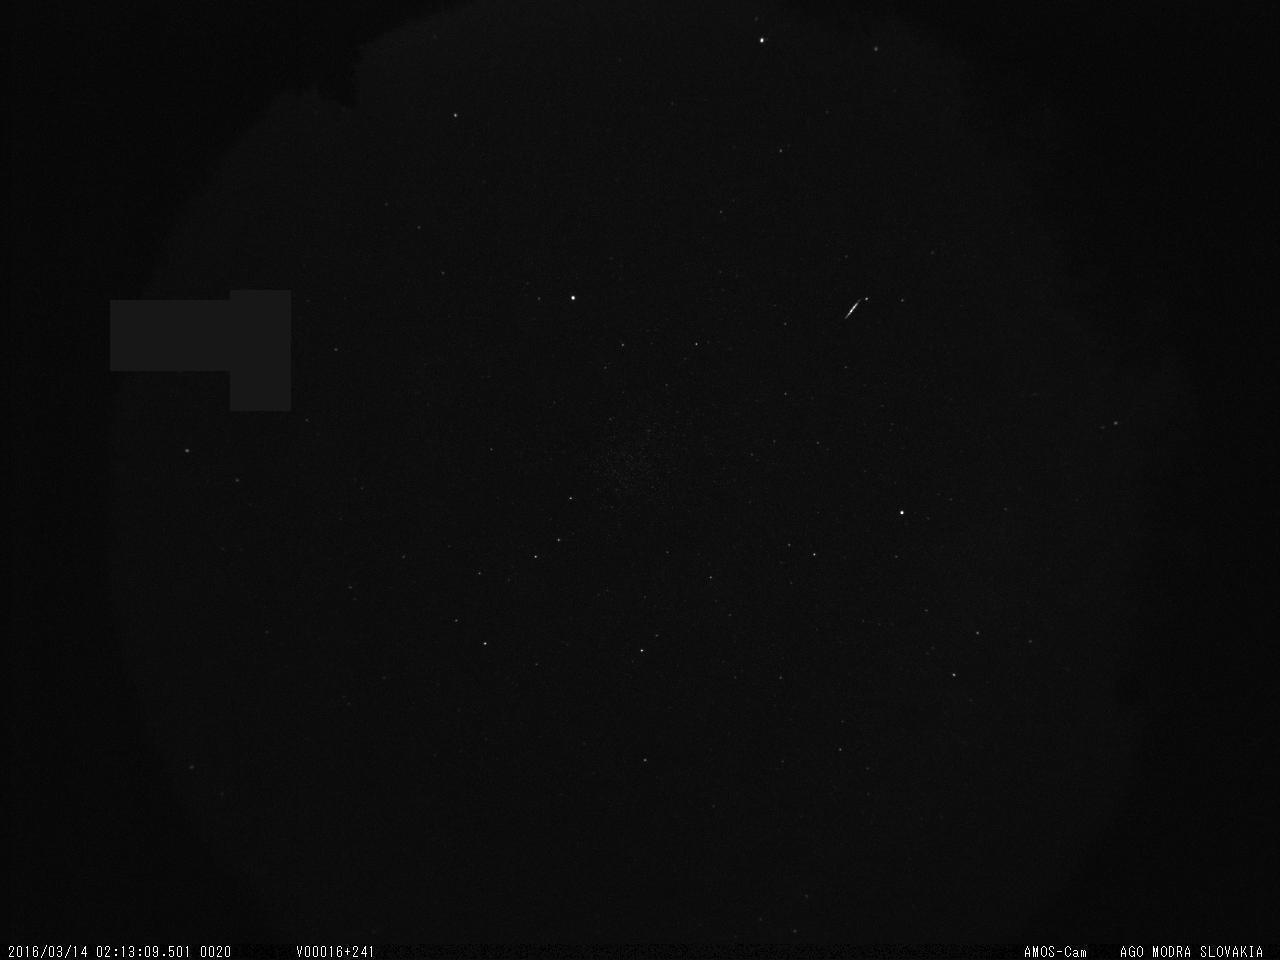Meteor: (840, 294, 867, 327)
